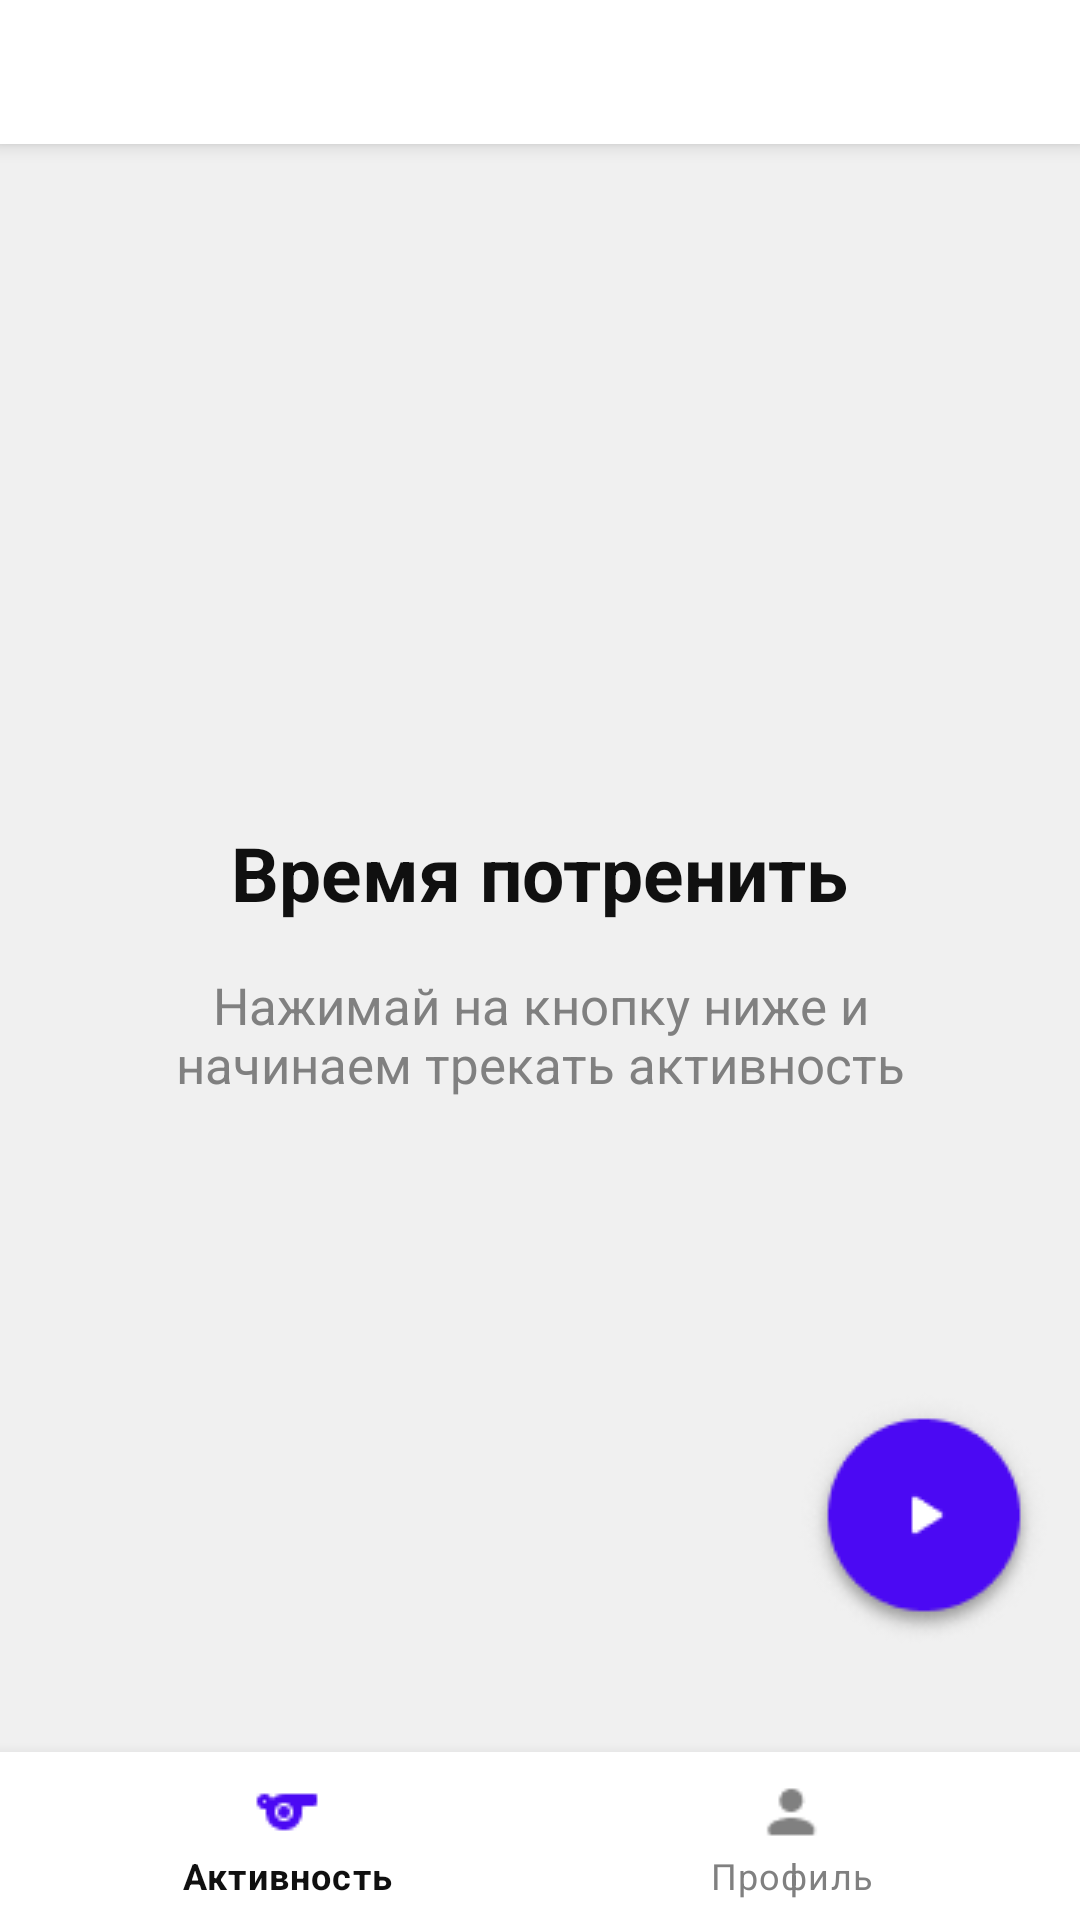

Named icons in this screenshot (1080*1920) and their centers, [x,y]:
Start activity: [924,1522]
